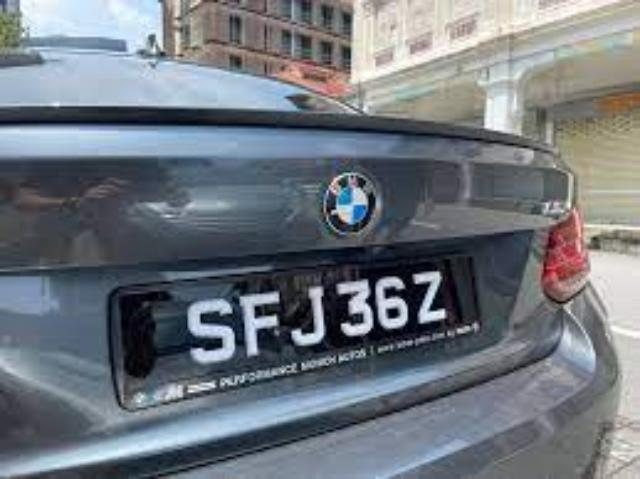License_Plate: (88, 252, 497, 415)
car: (1, 34, 627, 479)
